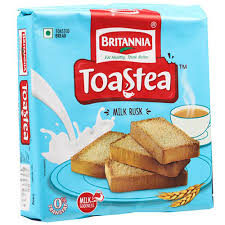Britania-toast-small: (15, 4, 213, 217)
